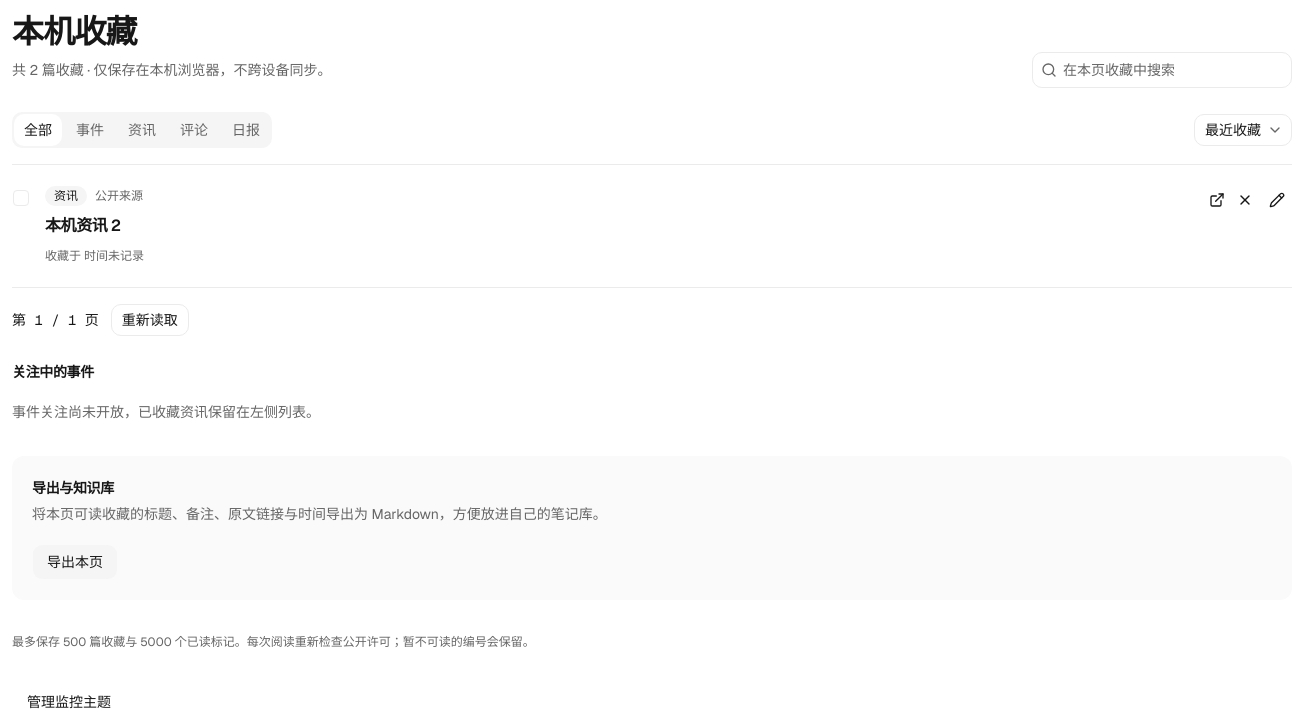
keeps legacy category deep links while using the design's content-type filter
Expected: the link "本机资讯 2" is shown, x1=45 y1=215 x2=121 y2=236
Click the radio button labelled "事件" at point(90, 130), box x1=66 y1=114 x2=114 y2=146
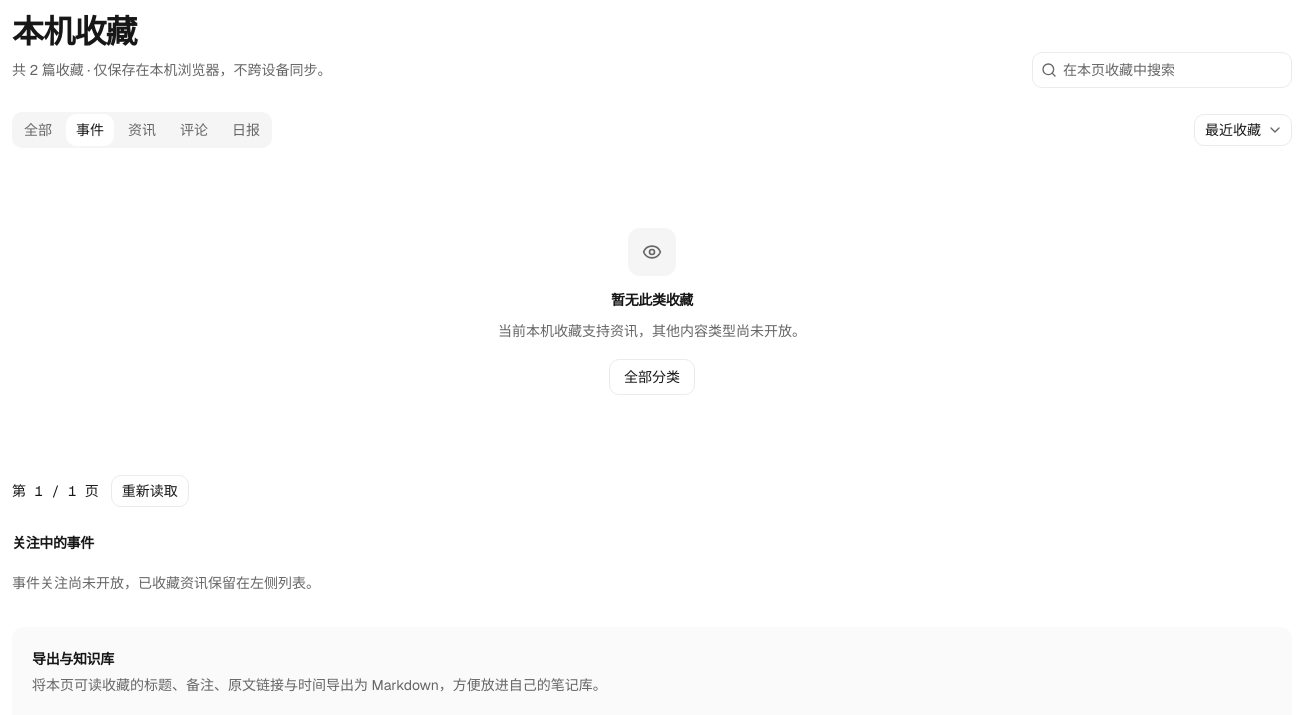
Expected: the message "暂无此类收藏" is shown, x1=498 y1=228 x2=806 y2=395
Click the radio button labelled "资讯" at point(142, 130), box x1=118 y1=114 x2=166 y2=146
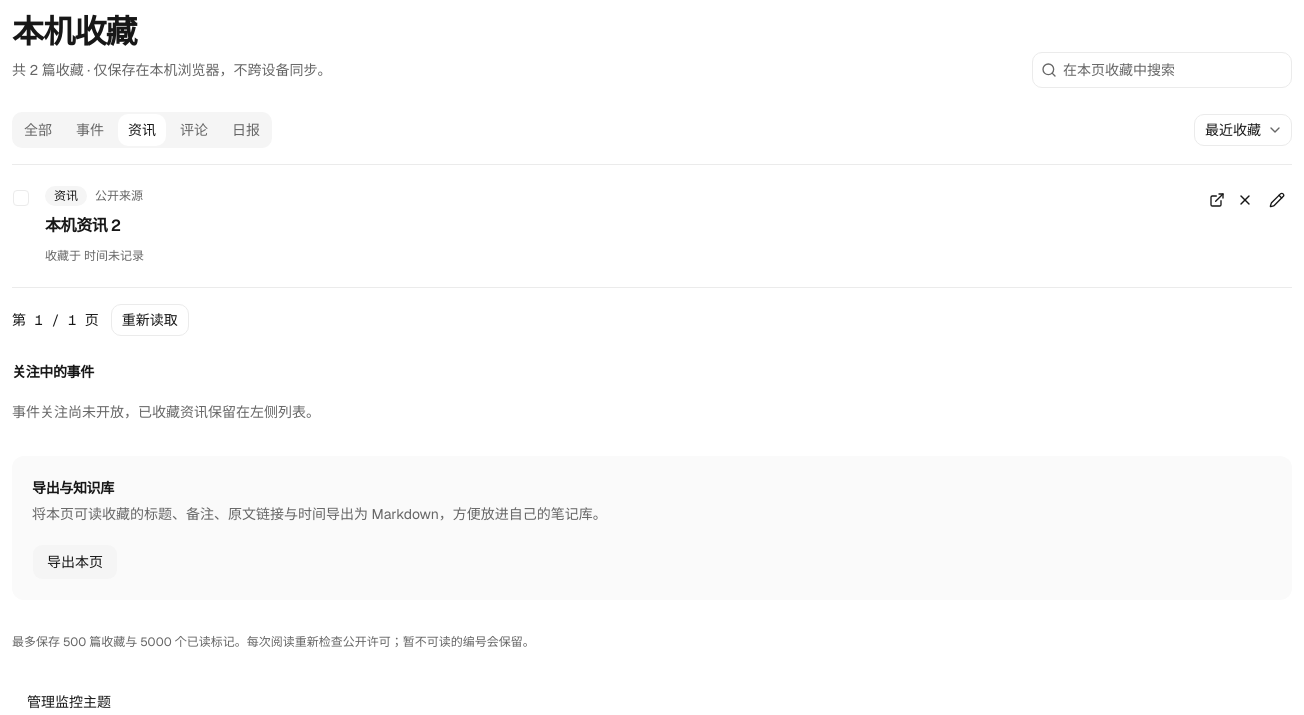
Expected: the link "本机资讯 2" is shown, x1=45 y1=215 x2=121 y2=236
